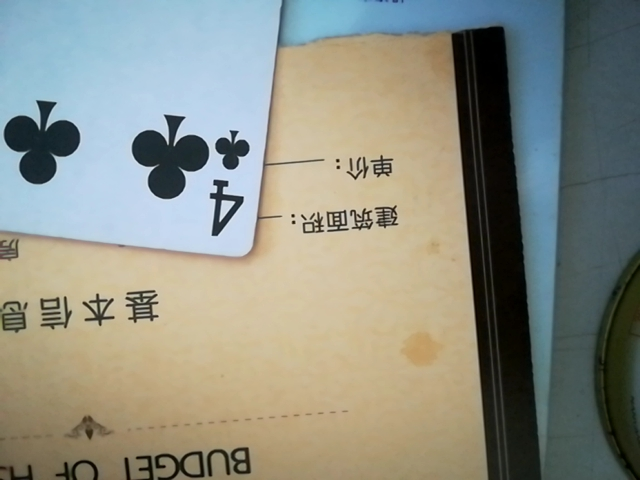mh 4: (1, 0, 299, 262)
